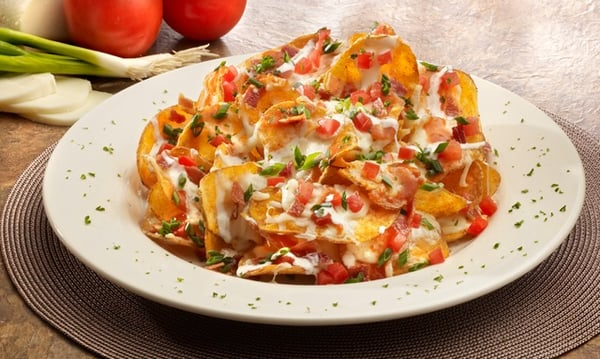steak: (60, 0, 165, 57), (162, 0, 248, 41)
